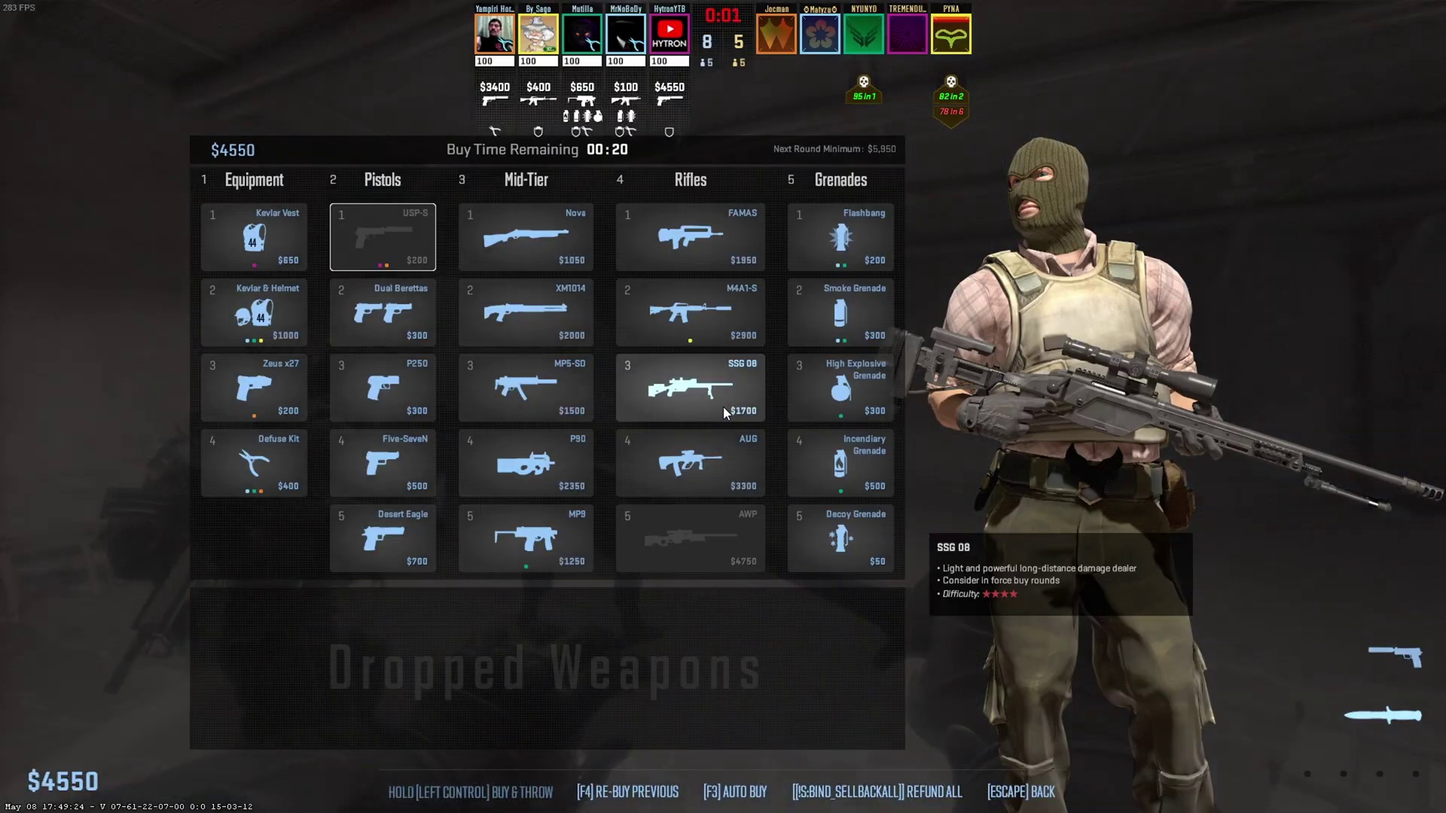Terrorist: (966, 138, 1211, 784)
